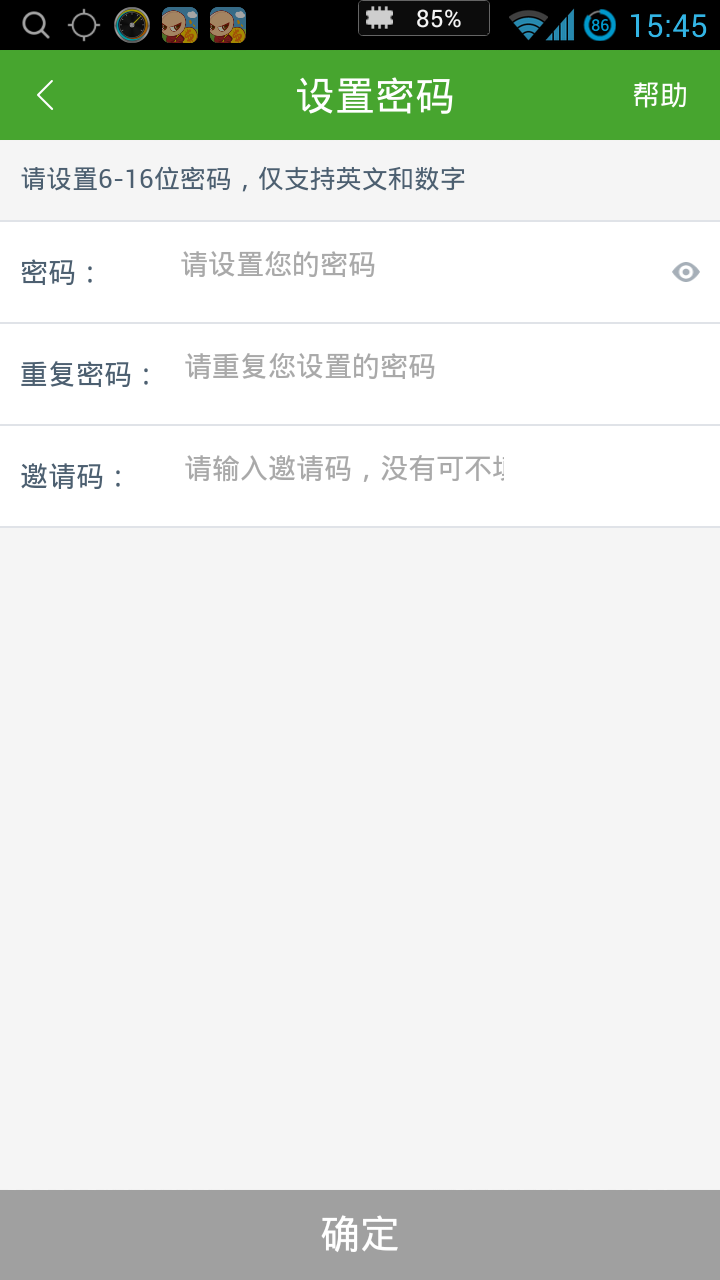button: (1, 1187, 720, 1278)
imgbutton: (14, 65, 77, 126)
textview: (1, 141, 720, 536)
